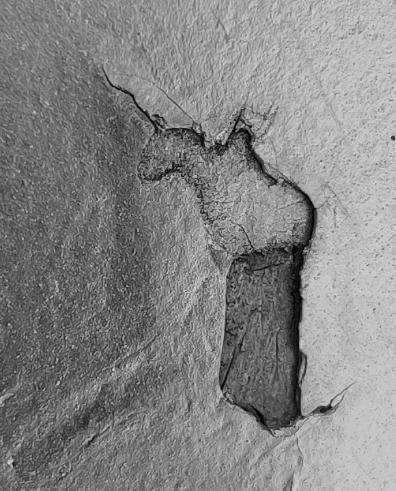paint-off: (1, 0, 396, 491)
